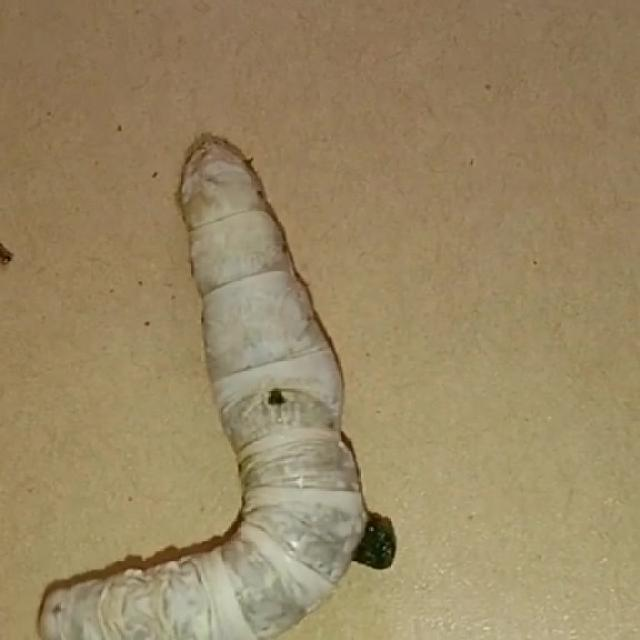Grasserie: (32, 122, 408, 640)
